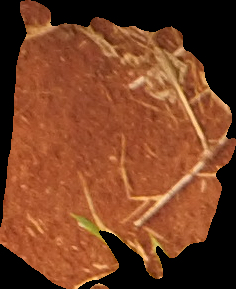soil: (1, 2, 234, 289)
